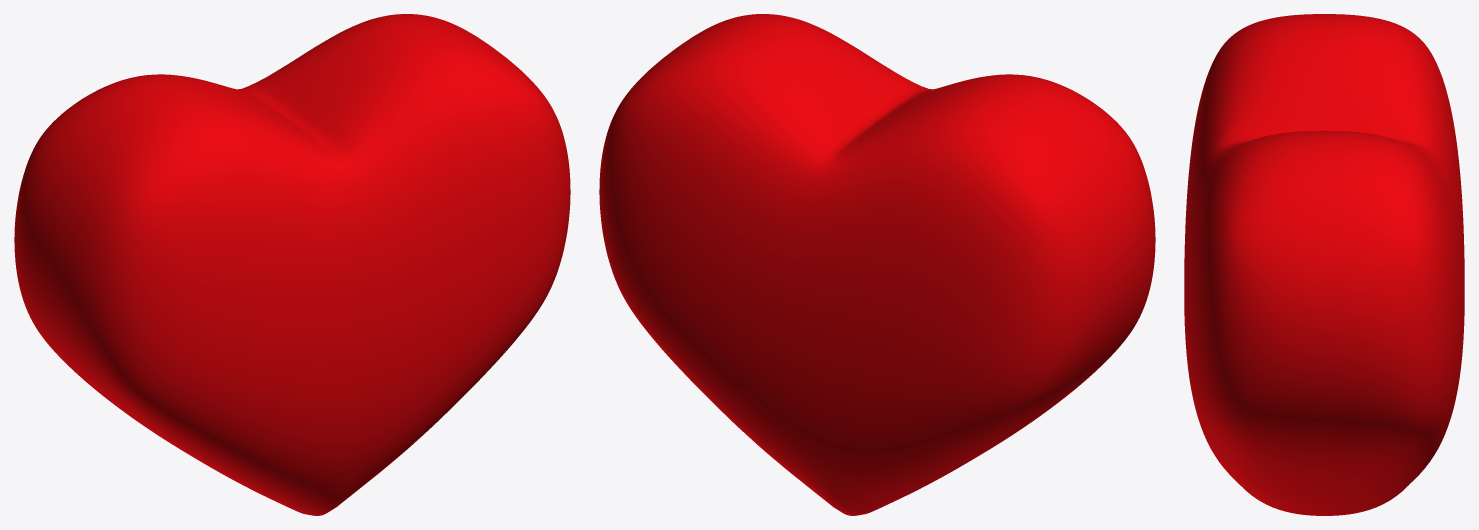
File: heart3.glb
3 renders of one model, left to right at view 1: azimuth 30°, elevation 25°; view 2: azimuth 150°, elevation 25°; view 3: azimuth 270°, elevation 25°, orthographic. The views are drawn at different scales.
Visible parts, largest first — view 1: Cube; view 2: Cube; view 3: Cube.
Part boxes in pixels (<box>): Cube: <box>14,14,570,515</box>; Cube: <box>599,14,1155,515</box>; Cube: <box>1184,14,1464,515</box>.
Size of the model in its own units: 2.11 by 1.8 by 1.06.
